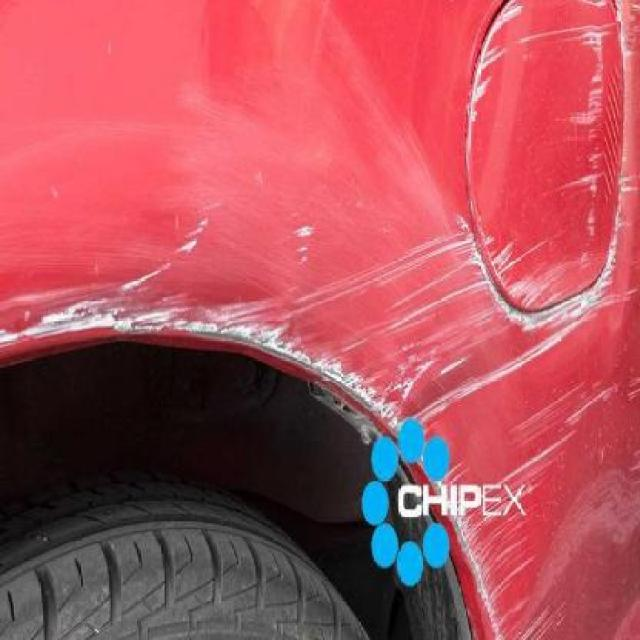scratch: (391, 40, 640, 221), (1, 216, 252, 360), (252, 220, 504, 363), (442, 479, 640, 623), (503, 221, 638, 364), (303, 364, 640, 420), (368, 421, 636, 479)
